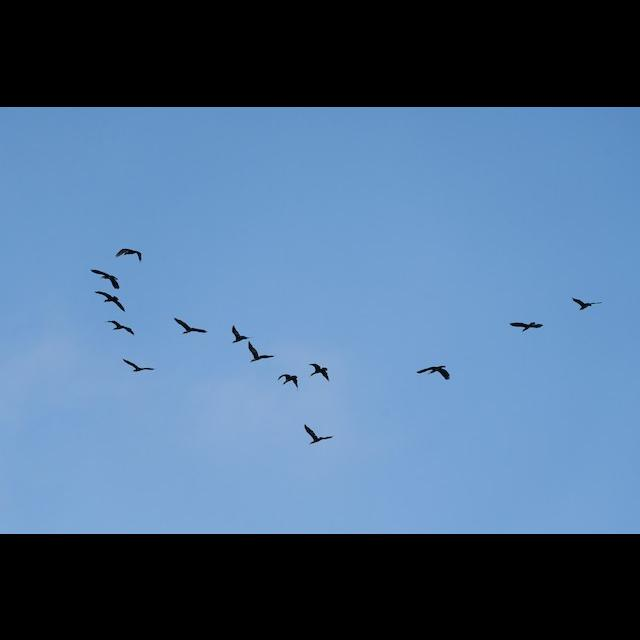cormorant: (172, 315, 208, 337), (302, 422, 334, 446), (245, 339, 275, 363), (94, 289, 126, 311), (416, 362, 454, 380), (120, 356, 156, 374), (105, 318, 136, 334), (308, 362, 332, 381), (112, 246, 144, 260), (509, 319, 545, 331), (275, 374, 299, 386)
